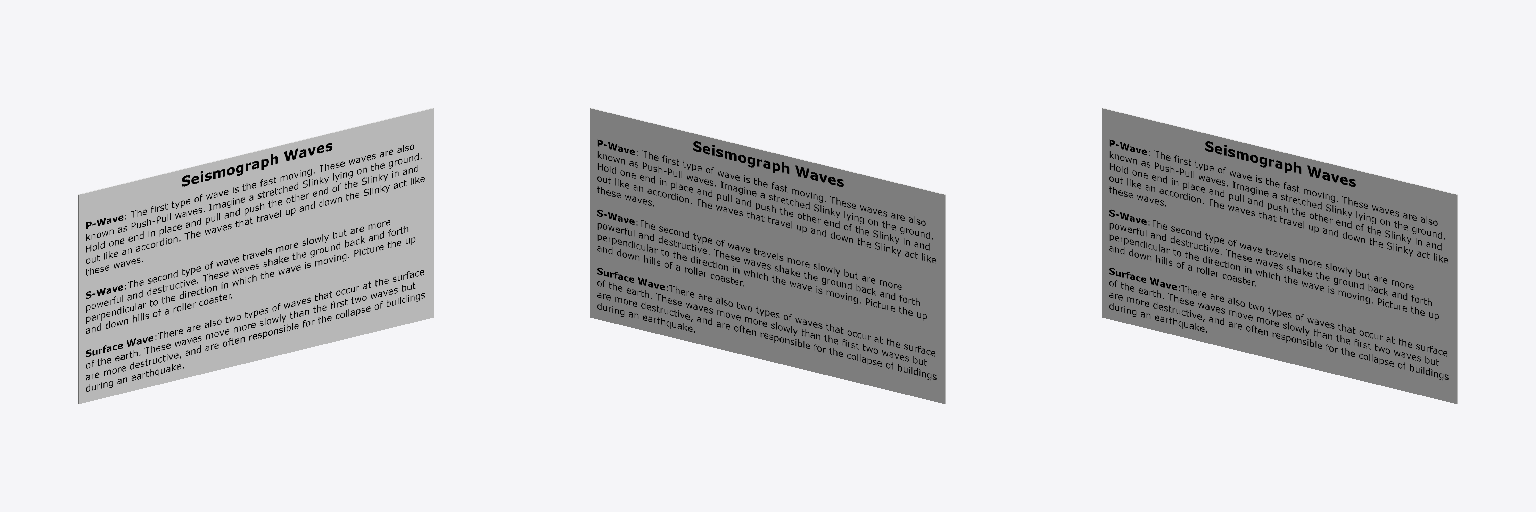
3 renders of one model, left to right at view 1: azimuth 30°, elevation 25°; view 2: azimuth 150°, elevation 25°; view 3: azimuth 330°, elevation 25°, orthographic.
Parts seen in each view (by area): view 1: seismograph_poster; view 2: seismograph_poster; view 3: seismograph_poster.
Boxes of the visible parts, box(x1,y1,x2,y2) form: seismograph_poster: box(78, 108, 433, 403); seismograph_poster: box(590, 108, 945, 403); seismograph_poster: box(1102, 108, 1457, 403).
Bounding box in the file's own units: 16 × 9 × 0.05.
1 materials, 1 textured.